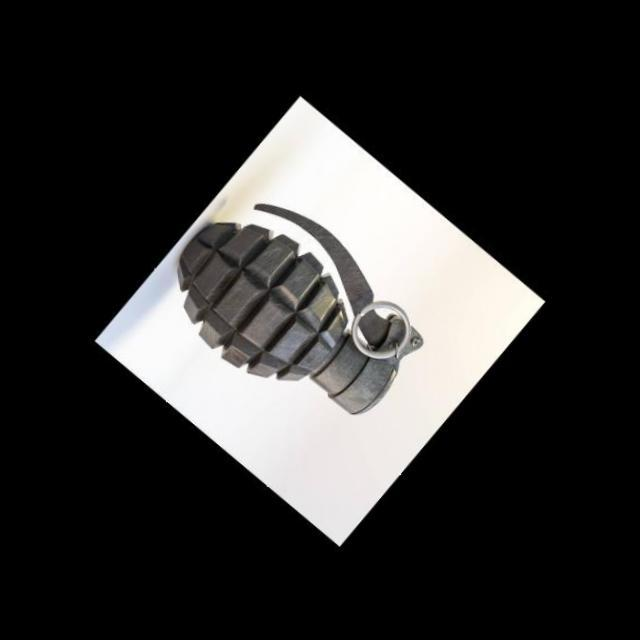grenade: (172, 189, 439, 429)
